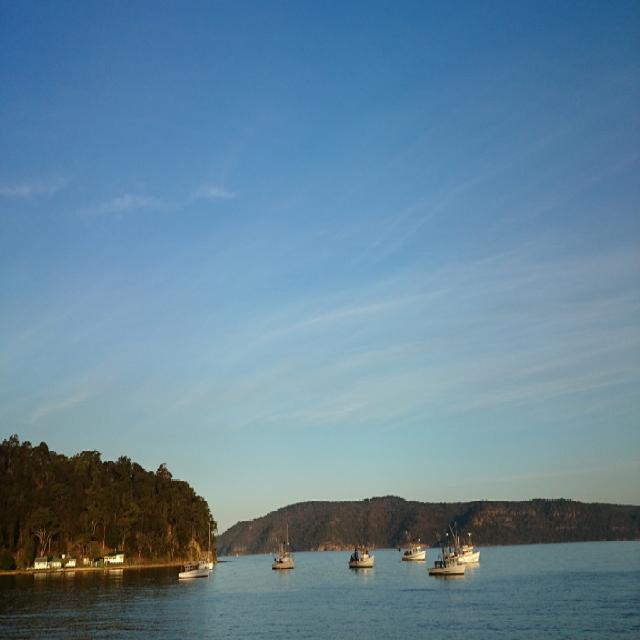Boat: (426, 528, 479, 587), (176, 521, 208, 580), (274, 533, 294, 569), (459, 540, 478, 569), (347, 550, 375, 569), (399, 542, 424, 560), (205, 528, 213, 566)
